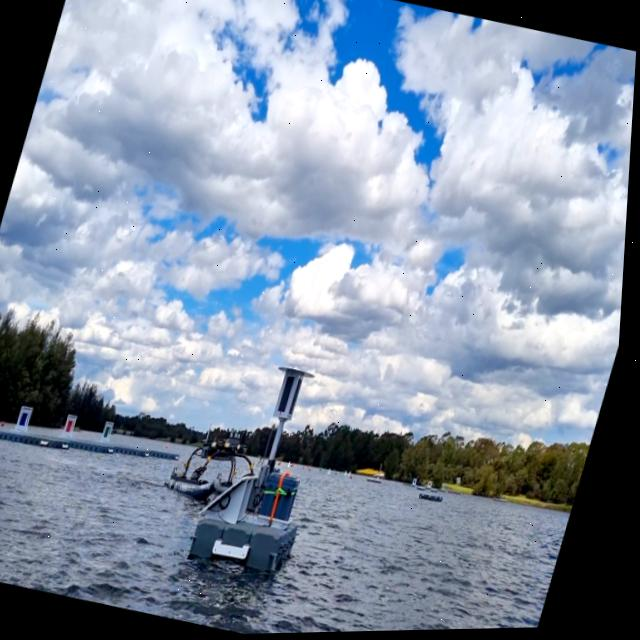led: (280, 373, 302, 417)
